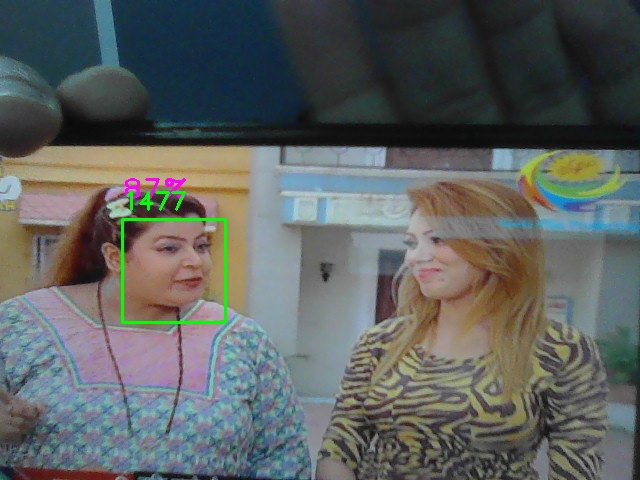fake: (122, 219, 226, 323)
